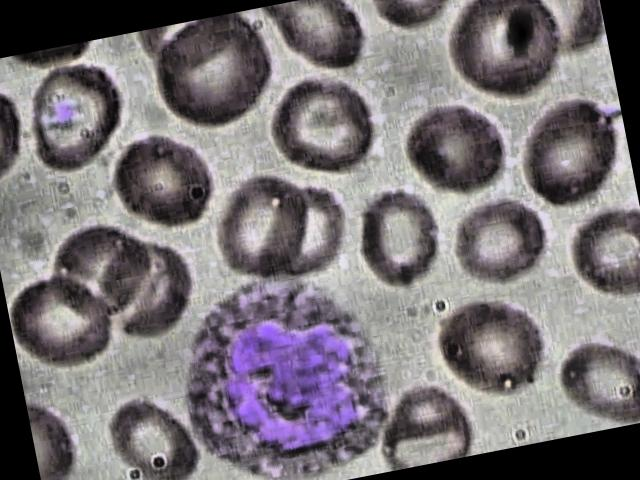RBC: (142, 8, 284, 139), (256, 61, 391, 196), (8, 47, 138, 177), (196, 167, 327, 291), (508, 89, 630, 214), (422, 288, 551, 402), (36, 212, 162, 326), (434, 0, 569, 106), (2, 258, 126, 373), (97, 124, 222, 238), (396, 90, 515, 205), (440, 186, 556, 296), (366, 362, 478, 472), (344, 180, 450, 295), (547, 311, 640, 436), (549, 189, 640, 305), (94, 386, 206, 480), (259, 0, 374, 85)
WBC: (160, 253, 413, 480)
